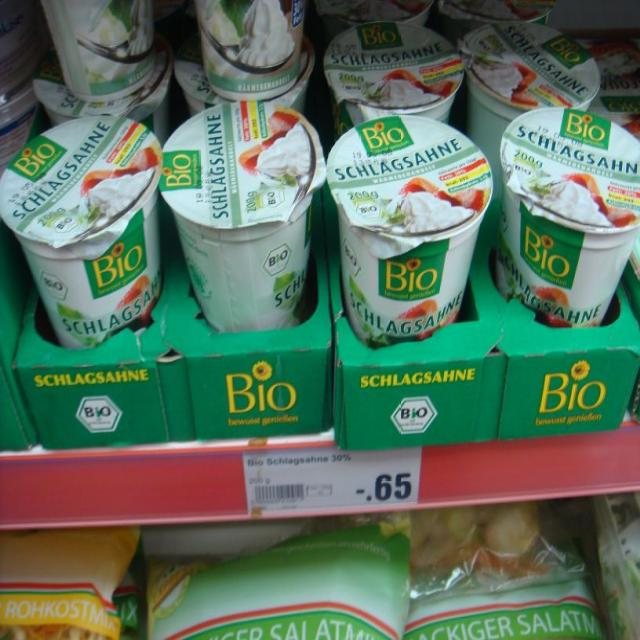Cream: (328, 114, 493, 346), (161, 98, 325, 331), (1, 116, 162, 347), (497, 107, 640, 327), (460, 23, 602, 195), (325, 21, 465, 135), (33, 33, 173, 143), (42, 0, 155, 100), (196, 0, 304, 99)
